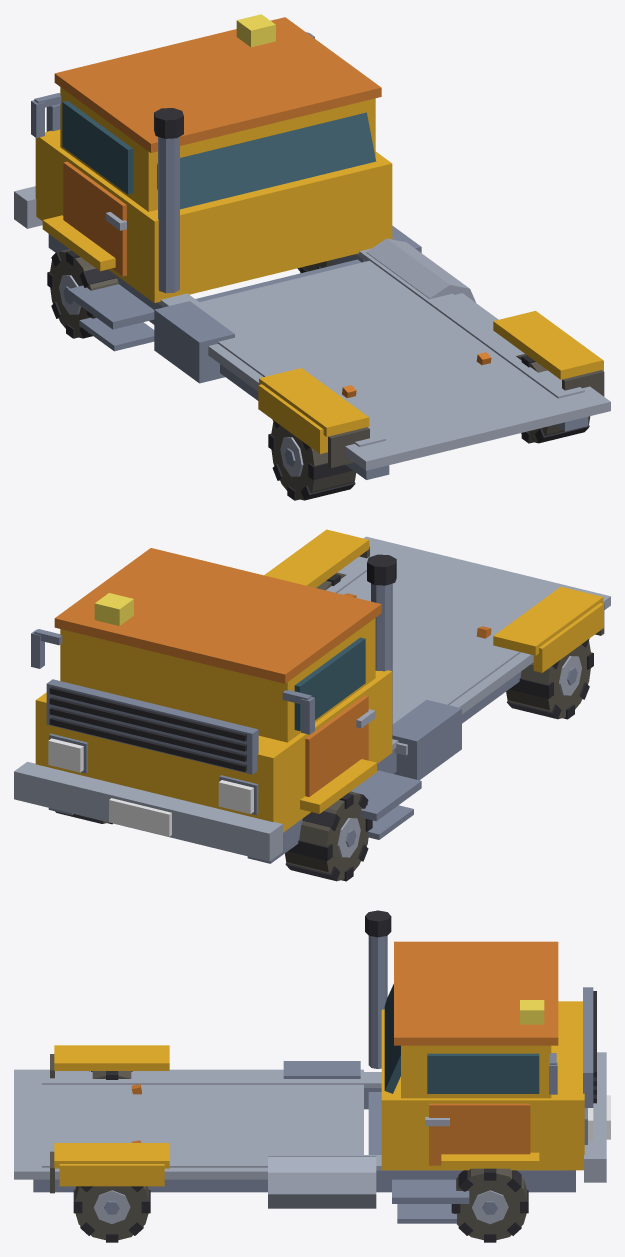
Rendered from car_body.glb.
3 views of the same model, one above another, from view 1: azimuth 30°, elevation 25°; view 2: azimuth 150°, elevation 25°; view 3: azimuth 270°, elevation 25° (orthographic). The views are drawn at different scales.
Parts seen in each view (by area): view 1: car_body; view 2: car_body; view 3: car_body.
Boxes of the visible parts, x1,y1,x2,y2 form: car_body: [14, 14, 610, 500]; car_body: [14, 529, 610, 881]; car_body: [14, 910, 610, 1242].
Bounding box in the file's own units: 1.74 × 1.41 × 3.41.
